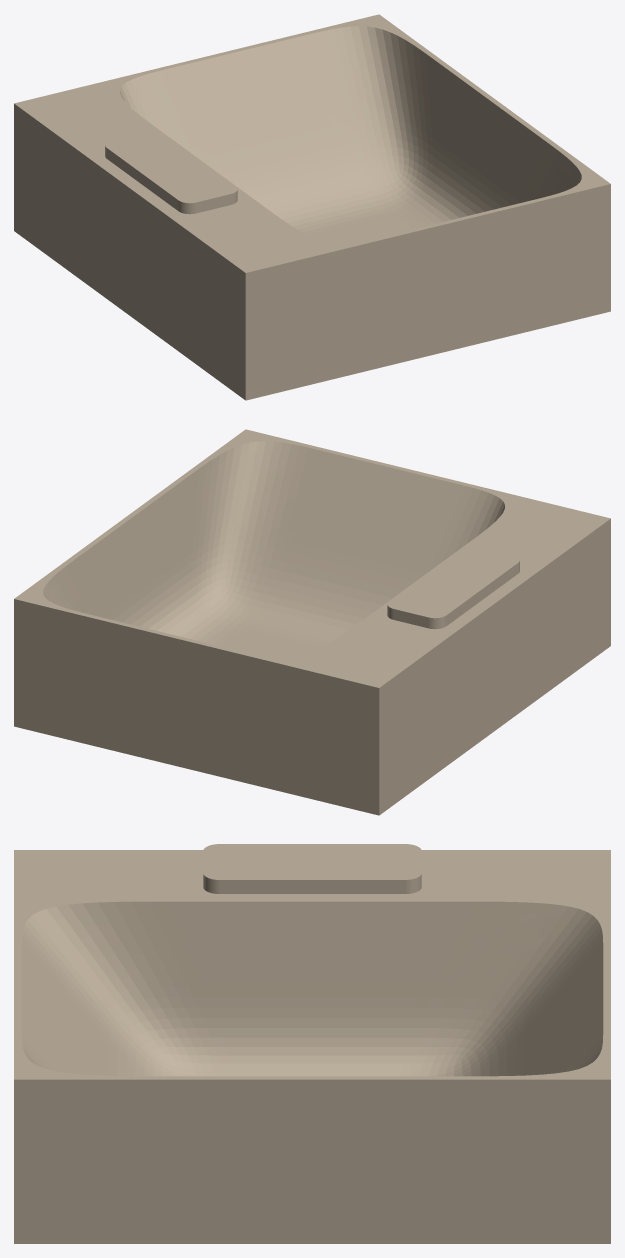
File: 3dcodebench_BathroomSink_seed0.glb
3 views of the same model, one above another, from view 1: azimuth 30°, elevation 25°; view 2: azimuth 150°, elevation 25°; view 3: azimuth 270°, elevation 25° (orthographic). The views are drawn at different scales.
Parts seen in each view (by area): view 1: object; view 2: object; view 3: object.
Boxes of the visible parts, x1,y1,x2,y2 form: object: [14, 14, 610, 400]; object: [14, 429, 610, 815]; object: [14, 844, 610, 1243].
Size of the model in its own units: 0.6958 by 0.2522 by 0.7646.
